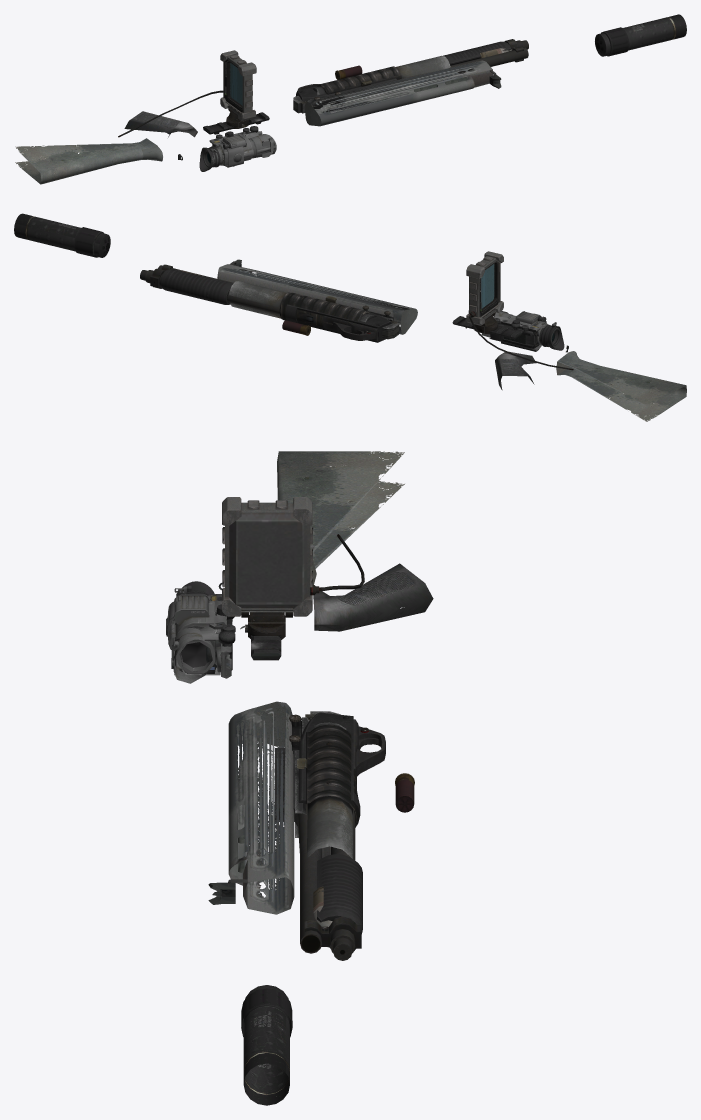
Rendered from viewmodel_fn_fal_LOD0.obj.
The picture shows the model from 3 angles, top to bottom: view 1: azimuth 30°, elevation 25°; view 2: azimuth 150°, elevation 25°; view 3: azimuth 270°, elevation 25°; orthographic projection. The views are drawn at different scales.
Visible parts, largest first — view 1: mtl_weapon_fn_fal, mtl_weapon_shotgun_masterkey, mtl_weapon_motion_tracker, mtl_weapon_m203, mtl_weapon_suppressor_b, mtl_weapon_thermal_sight_2, mtl_weapon_acog_2, mtl_motion_tracker_screen, mtl_weapon_eotech_2; view 2: mtl_weapon_fn_fal, mtl_weapon_shotgun_masterkey, mtl_weapon_m203, mtl_weapon_motion_tracker, mtl_weapon_suppressor_b, mtl_weapon_thermal_sight_2, mtl_motion_tracker_screen, mtl_weapon_eotech_2, mtl_weapon_red_dot_sight, mtl_weapon_acog_2; view 3: mtl_weapon_fn_fal, mtl_weapon_motion_tracker, mtl_weapon_shotgun_masterkey, mtl_weapon_m203, mtl_weapon_suppressor_b, mtl_weapon_thermal_sight_2, mtl_weapon_acog_2.
Boxes of the visible parts, left/top/right/bottom form: mtl_weapon_fn_fal: left=15, top=60, right=493, bottom=184; mtl_weapon_shotgun_masterkey: left=295, top=39, right=528, bottom=109; mtl_weapon_motion_tracker: left=118, top=50, right=269, bottom=137; mtl_weapon_m203: left=293, top=48, right=511, bottom=113; mtl_weapon_suppressor_b: left=595, top=14, right=686, bottom=56; mtl_weapon_thermal_sight_2: left=199, top=131, right=272, bottom=171; mtl_weapon_acog_2: left=203, top=126, right=276, bottom=167; mtl_motion_tracker_screen: left=230, top=63, right=242, bottom=105; mtl_weapon_eotech_2: left=209, top=132, right=245, bottom=167; mtl_weapon_fn_fal: left=217, top=264, right=686, bottom=421; mtl_weapon_shotgun_masterkey: left=140, top=264, right=391, bottom=342; mtl_weapon_m203: left=178, top=270, right=399, bottom=339; mtl_weapon_motion_tracker: left=452, top=251, right=573, bottom=370; mtl_weapon_suppressor_b: left=14, top=213, right=110, bottom=257; mtl_weapon_thermal_sight_2: left=501, top=311, right=564, bottom=350; mtl_motion_tracker_screen: left=481, top=264, right=494, bottom=308; mtl_weapon_eotech_2: left=501, top=319, right=546, bottom=351; mtl_weapon_red_dot_sight: left=489, top=316, right=535, bottom=348; mtl_weapon_acog_2: left=481, top=311, right=560, bottom=346; mtl_weapon_fn_fal: left=228, top=451, right=433, bottom=914; mtl_weapon_motion_tracker: left=222, top=497, right=364, bottom=660; mtl_weapon_shotgun_masterkey: left=275, top=712, right=414, bottom=960; mtl_weapon_m203: left=289, top=711, right=356, bottom=926; mtl_weapon_suppressor_b: left=241, top=985, right=292, bottom=1105; mtl_weapon_thermal_sight_2: left=170, top=581, right=227, bottom=675; mtl_weapon_acog_2: left=166, top=585, right=235, bottom=683.
Bounding box in the file's own units: 131 × 17.07 × 32.76.
